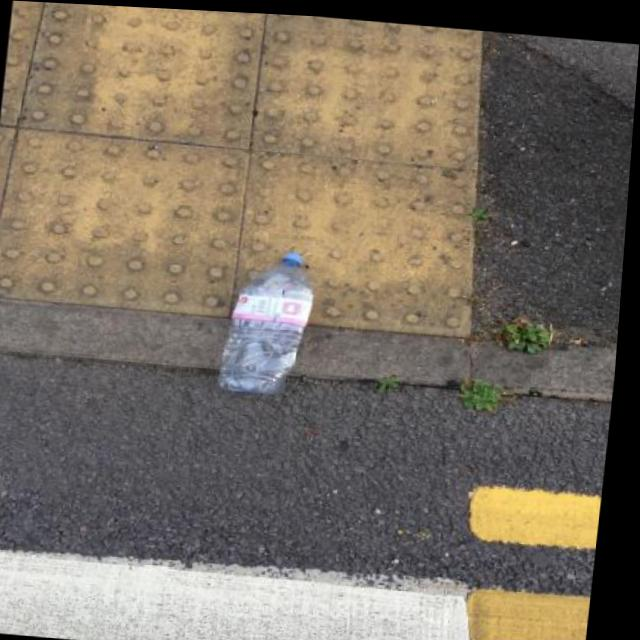plastic: (211, 246, 326, 402)
